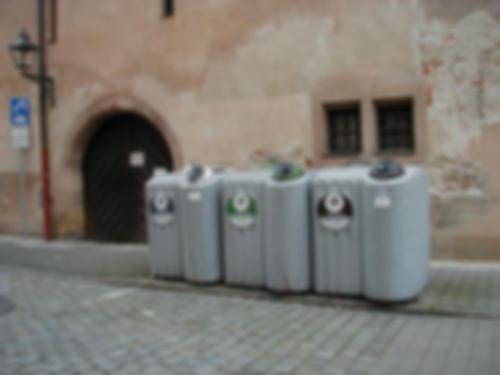Bote de Basura: (223, 161, 304, 291), (145, 164, 225, 283), (364, 165, 429, 302), (312, 162, 366, 295)
